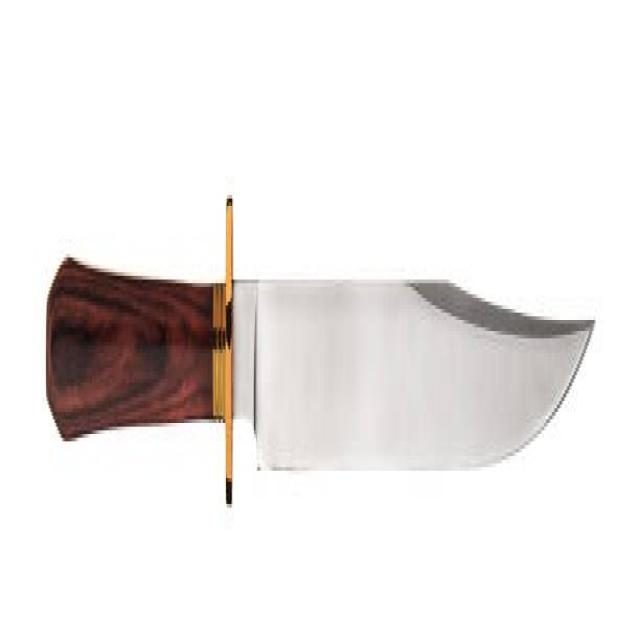knife: (40, 178, 600, 543)
